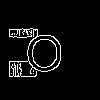O: (25, 25, 65, 72)
